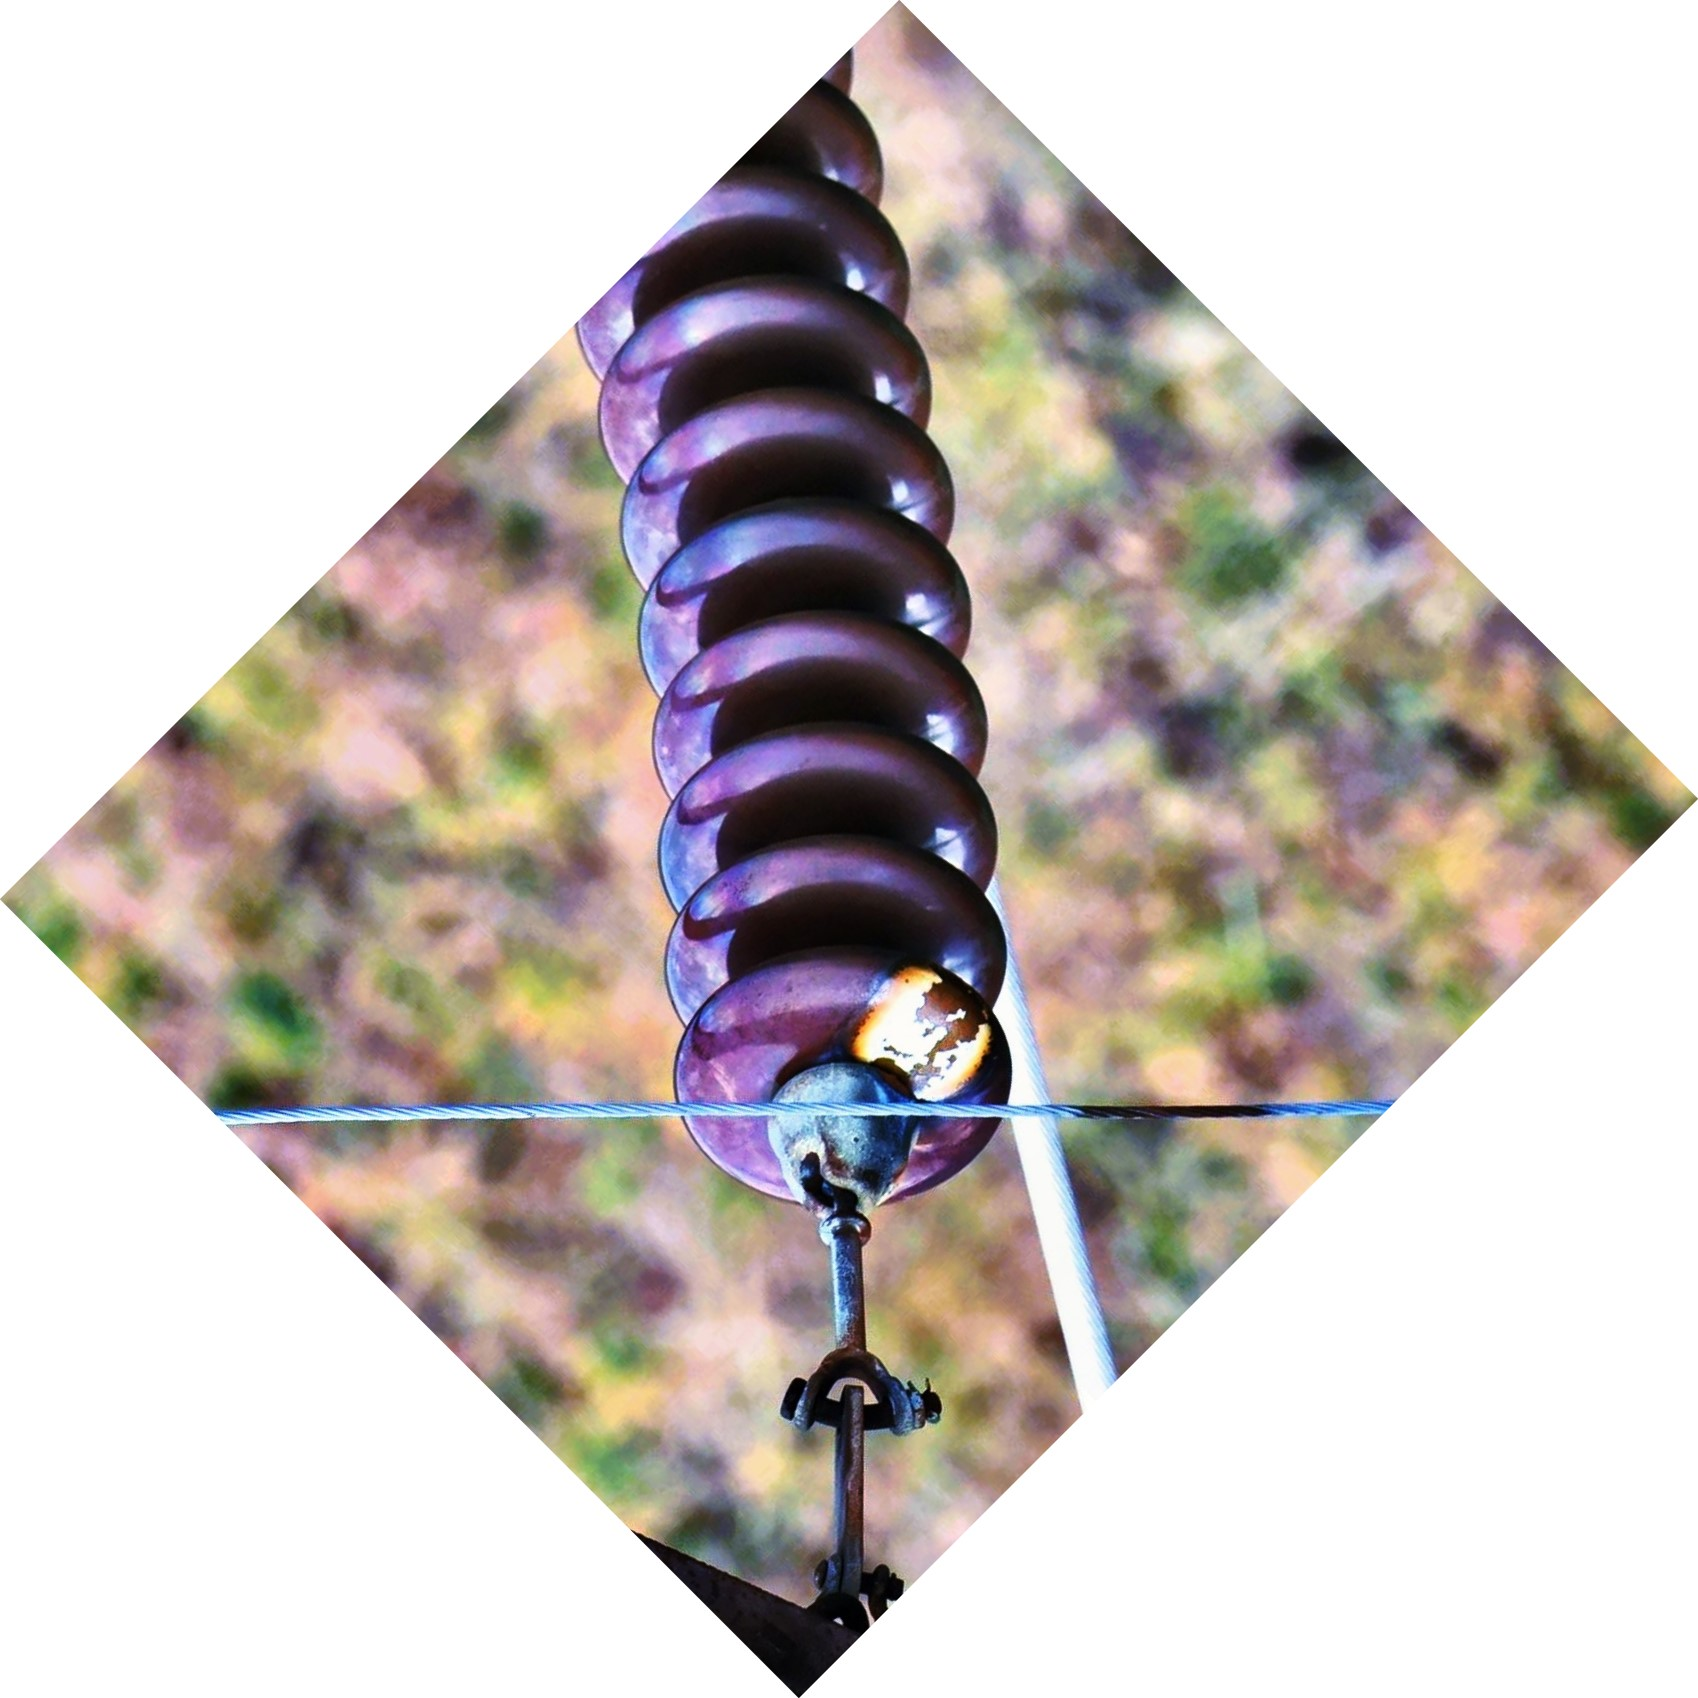Insulator flashover: (658, 945, 1025, 1219)
